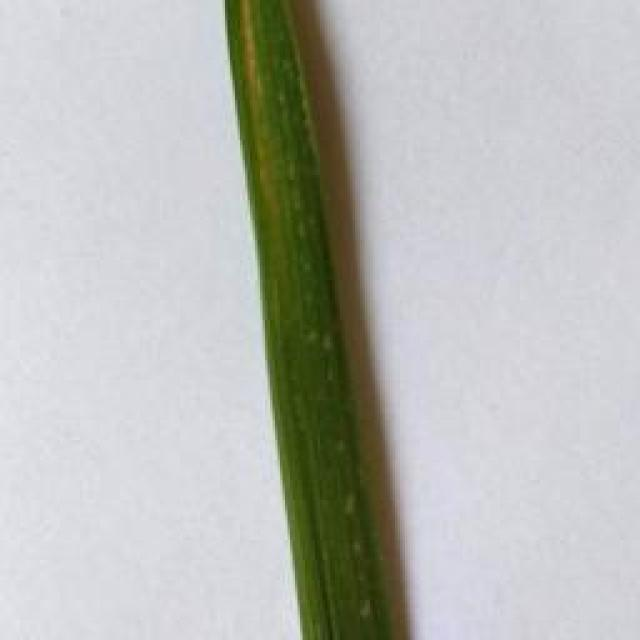Rice_Blast: (230, 0, 274, 119)
